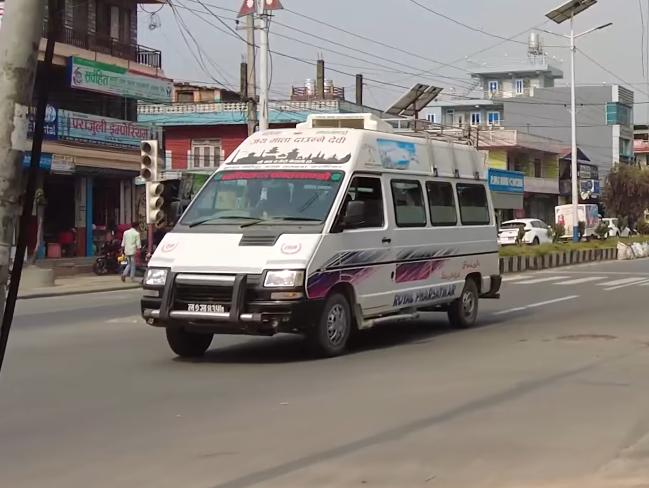micro_bus: (133, 111, 502, 359)
